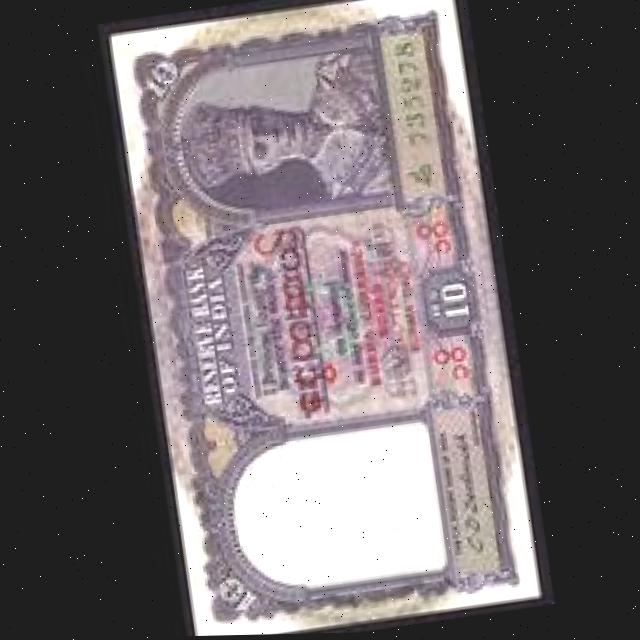banknote: (97, 0, 543, 638)
